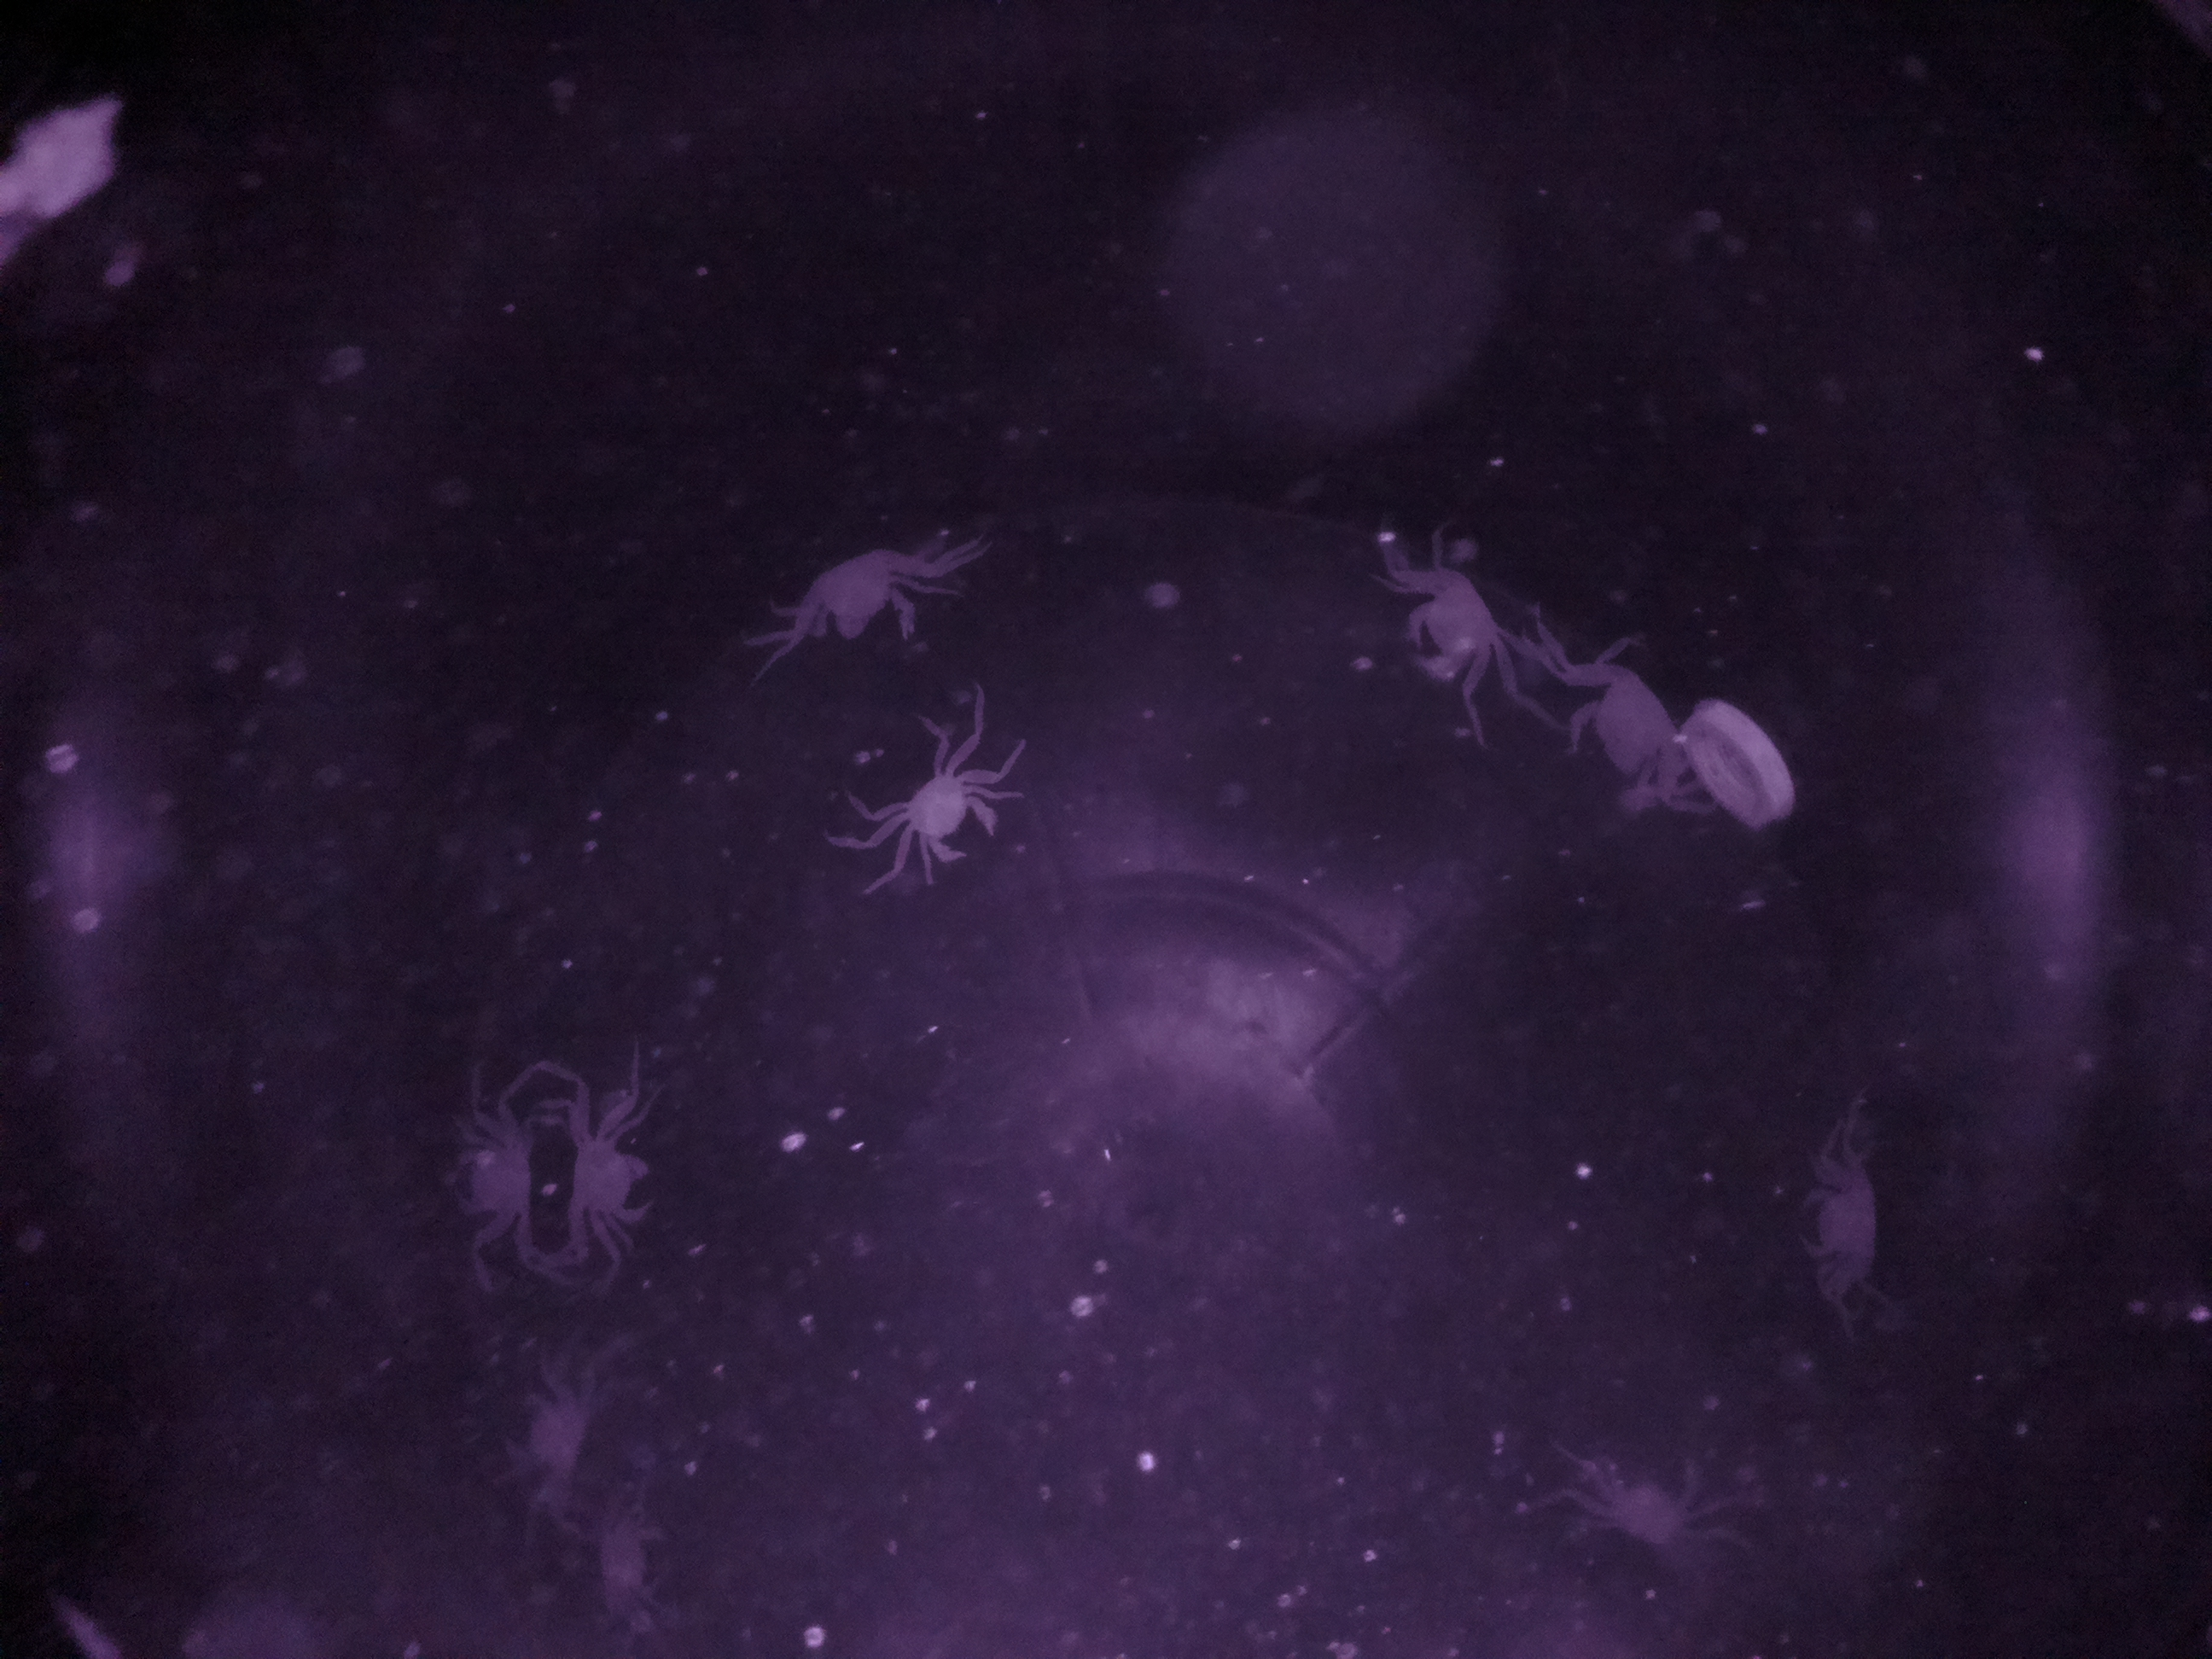Crab: (1383, 526, 1547, 737), (773, 491, 944, 681), (418, 1079, 556, 1281), (871, 728, 1031, 899), (563, 1082, 679, 1277)
